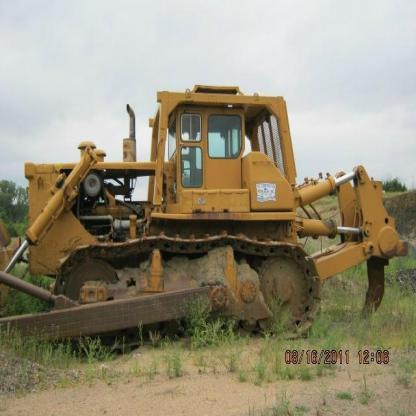bull_dozer/loader/grader: (15, 45, 390, 354)
